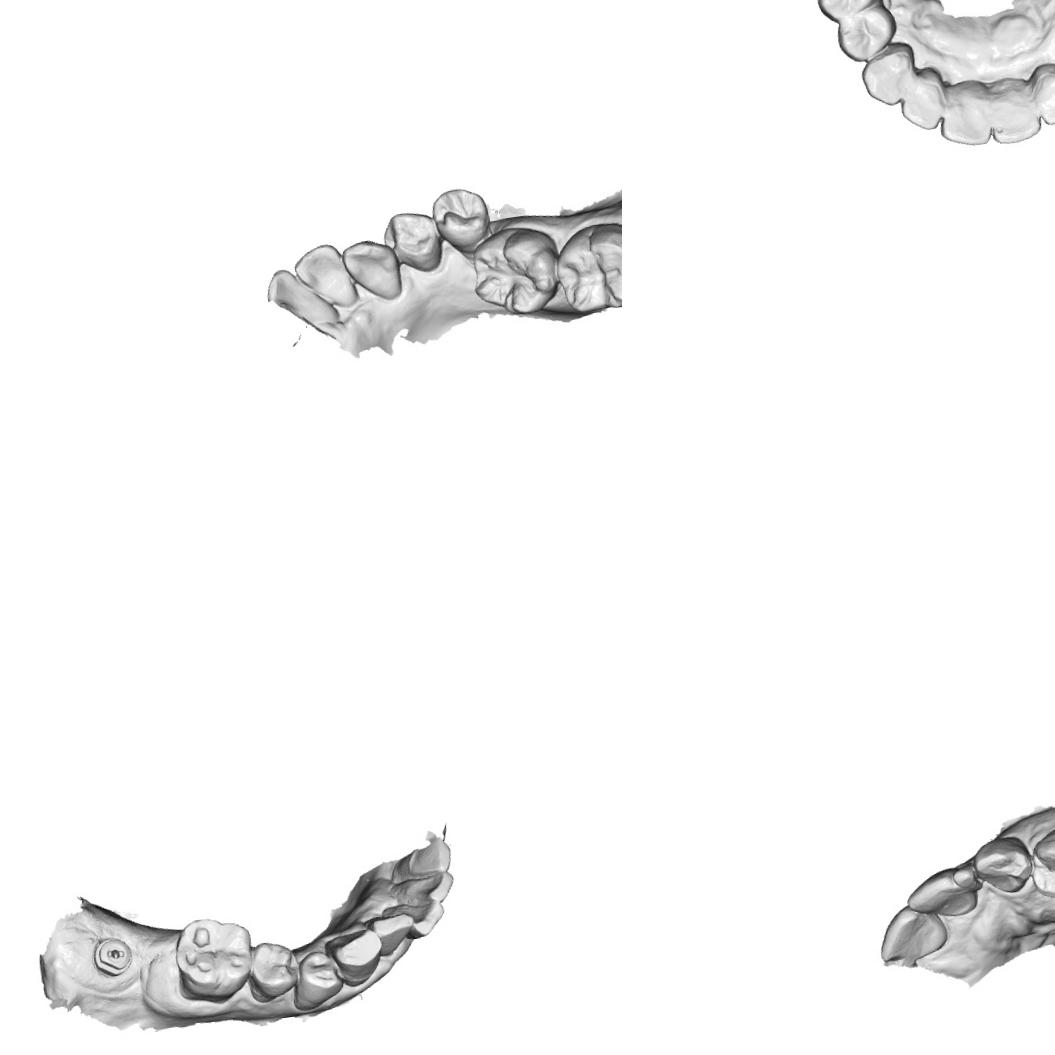canine: (970, 829, 1038, 900), (341, 233, 405, 306), (324, 926, 388, 990), (857, 47, 916, 111)
implant_minus: (88, 934, 134, 980)
incisor: (874, 900, 954, 971), (290, 238, 358, 318), (902, 862, 981, 924), (932, 80, 996, 152), (984, 75, 1044, 148), (894, 73, 948, 137), (260, 265, 315, 318), (395, 835, 454, 880), (368, 910, 419, 960), (394, 867, 456, 907), (395, 897, 448, 941), (1027, 64, 1055, 129)
molar: (466, 222, 564, 322), (168, 910, 258, 1007), (547, 216, 622, 318)
premolar: (378, 205, 449, 278), (428, 182, 493, 248), (832, 5, 902, 66), (285, 946, 346, 1012), (242, 938, 300, 1005), (1024, 820, 1055, 902), (812, 0, 884, 24)
